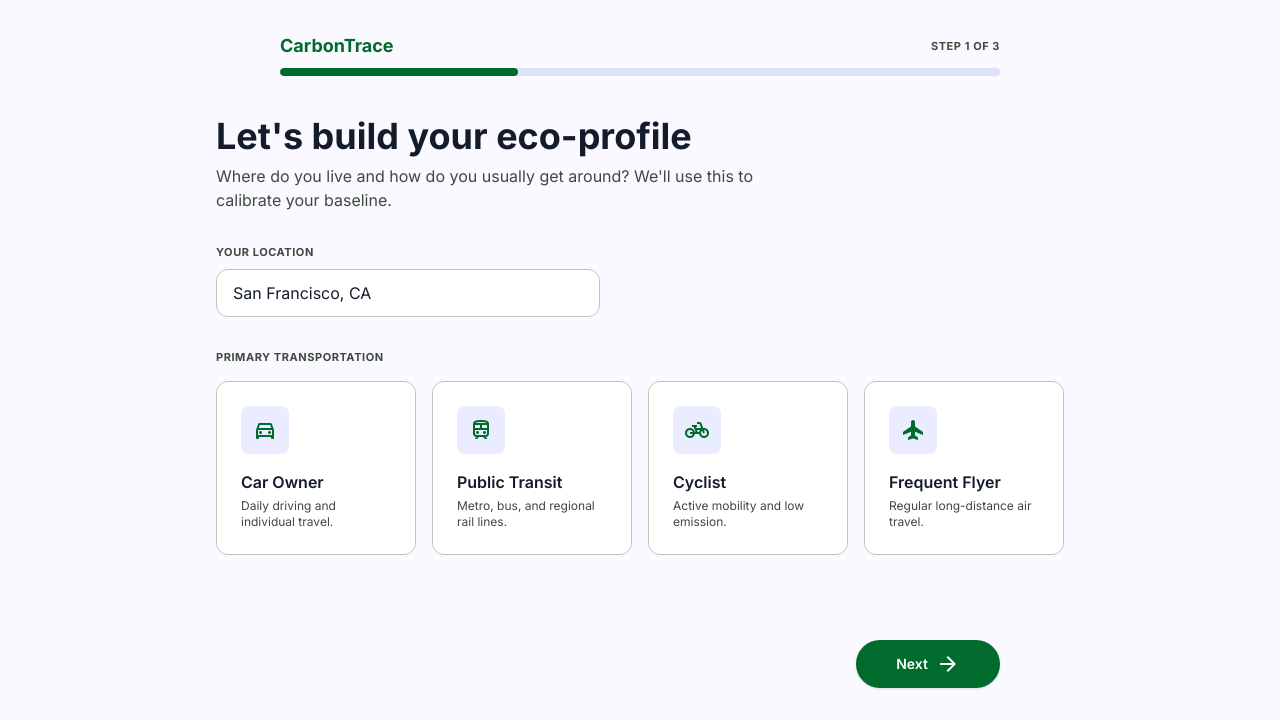
Test: OnboardingPage › advances to step 3 showing the goal card
This screenshot has width=1280, height=720.
Click the button "Next".
click(928, 664)  # box top-left (856, 640), bottom-right (1000, 688)
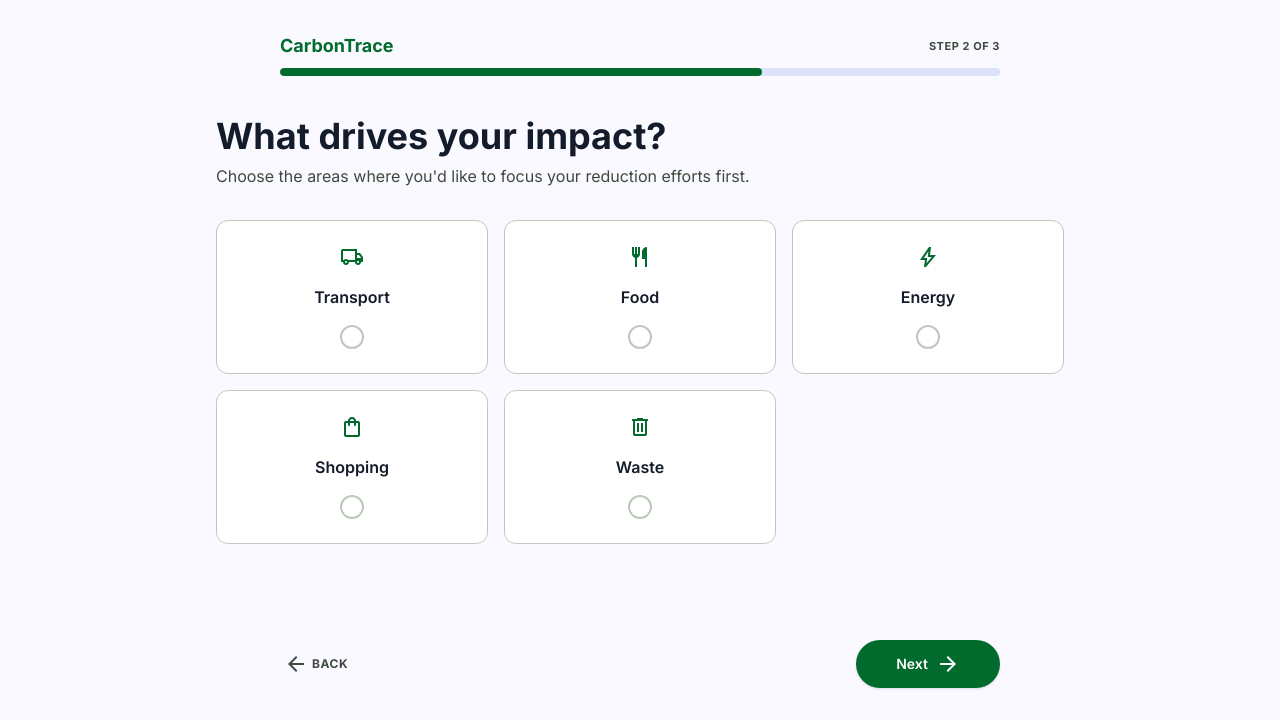
Expected: the heading "What drives your impact?" is shown, top-left (216, 114), bottom-right (666, 158)
Click the button "Next".
click(928, 664)  # box top-left (856, 640), bottom-right (1000, 688)
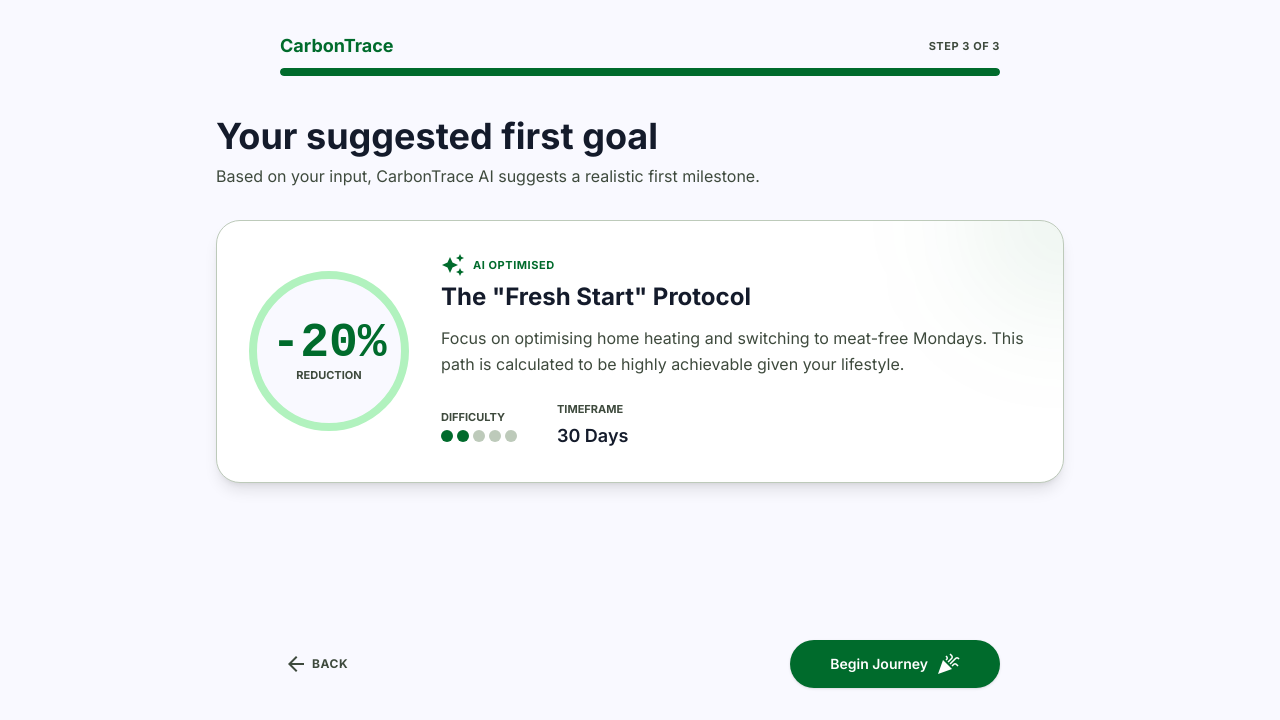
Expected: the heading "Your suggested first goal" is shown, top-left (216, 114), bottom-right (658, 158)
